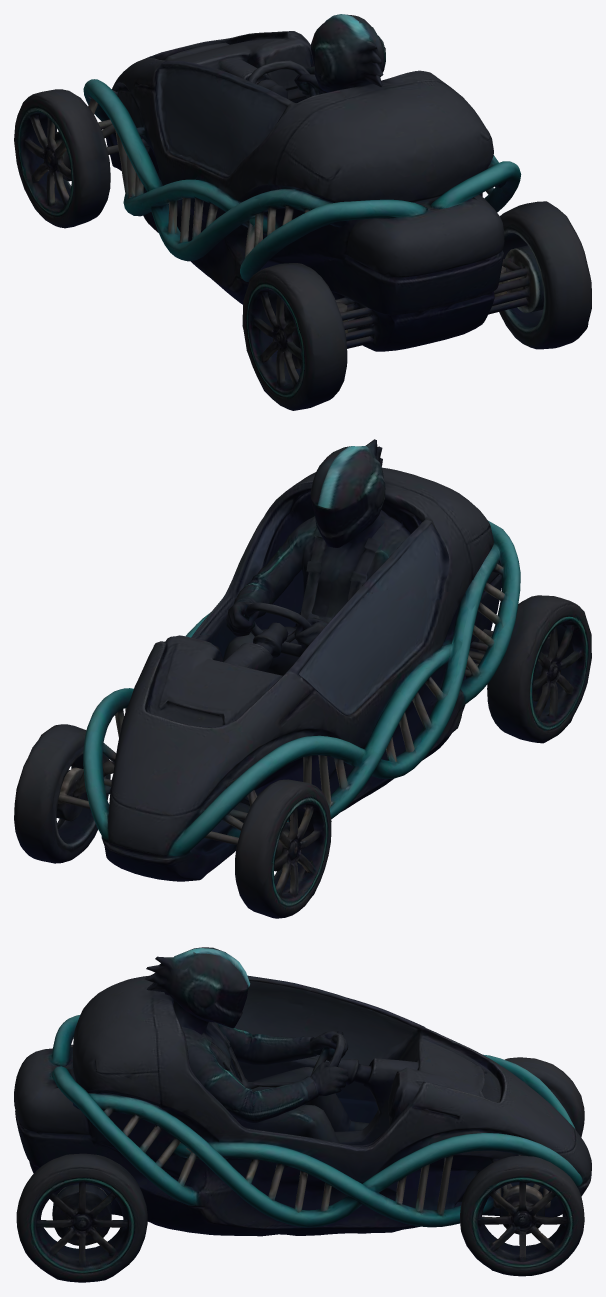
File: helix-dark.glb
The picture shows the model from 3 angles, top to bottom: view 1: azimuth 30°, elevation 25°; view 2: azimuth 150°, elevation 25°; view 3: azimuth 270°, elevation 25°; orthographic projection. The views are drawn at different scales.
Parts seen in each view (by area): view 1: chassis, wheel-rl, wheel-fl, wheel-rr; view 2: chassis, wheel-rl, wheel-fl, wheel-fr; view 3: chassis, wheel-fr, wheel-rr, wheel-fl.
Boxes of the visible parts, box(x1,y1,x2,y2) form: chassis: box(14, 14, 528, 351); wheel-rl: box(242, 263, 347, 410); wheel-fl: box(16, 79, 156, 228); wheel-rr: box(499, 201, 591, 349); chassis: box(14, 439, 520, 918); wheel-rl: box(487, 595, 591, 743); wheel-fl: box(205, 738, 339, 918); wheel-fr: box(32, 695, 128, 863); chassis: box(14, 947, 591, 1270); wheel-fr: box(406, 1127, 571, 1276); wheel-rr: box(16, 1153, 147, 1282); wheel-fl: box(483, 1054, 573, 1124).
Bounding box in the file's own units: 2.31 × 2.36 × 4.5.
Materials: 1 (1 with a texture image).
